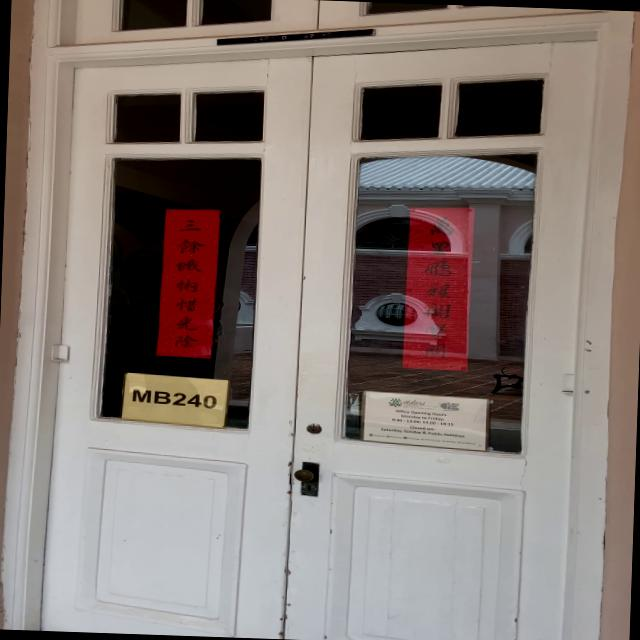room240: (125, 374, 222, 424)
